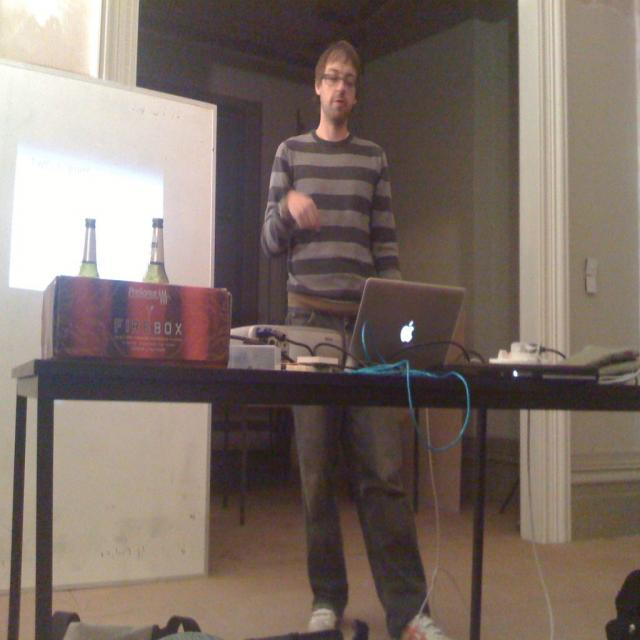desk: (12, 357, 640, 640)
laptop: (342, 276, 467, 372)
person: (259, 41, 418, 640)
